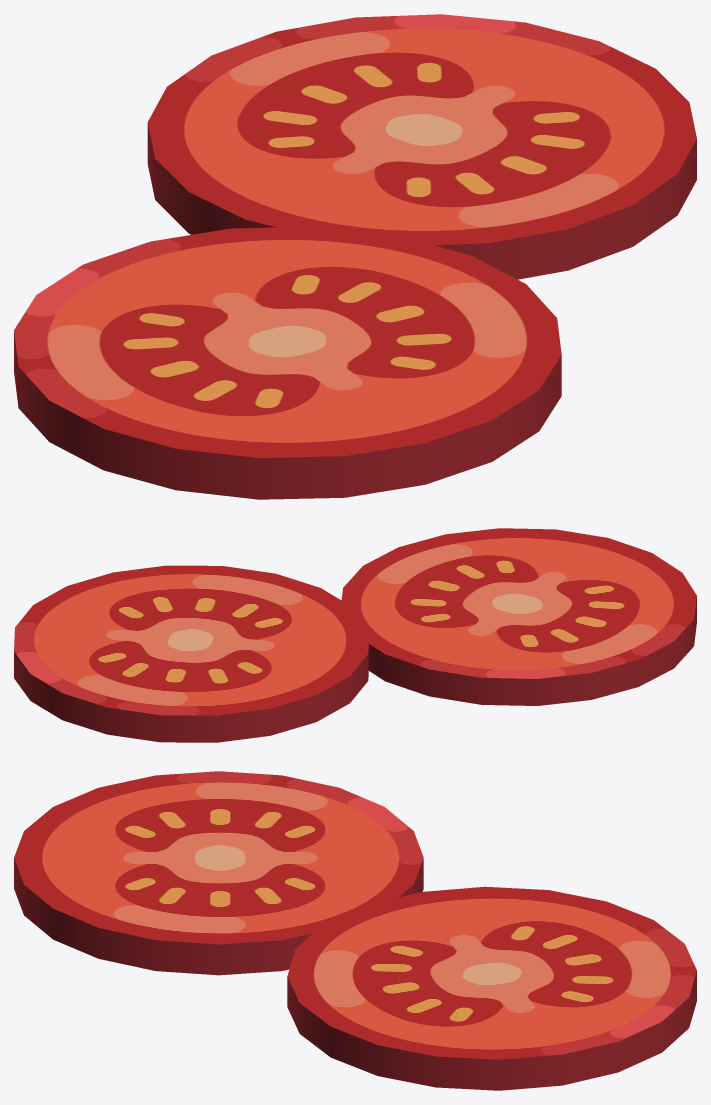
The model's file is Tomato_Slice.glb.
The picture shows the model from 3 angles, top to bottom: view 1: azimuth 30°, elevation 25°; view 2: azimuth 150°, elevation 25°; view 3: azimuth 270°, elevation 25°; orthographic projection. The views are drawn at different scales.
Visible parts, largest first — view 1: Tomato_Slice; view 2: Tomato_Slice; view 3: Tomato_Slice.
Part boxes in pixels (left/top/right/bottom): Tomato_Slice: left=14, top=14, right=696, bottom=499; Tomato_Slice: left=14, top=528, right=696, bottom=742; Tomato_Slice: left=14, top=771, right=696, bottom=1090.
Bounding box in the file's own units: 20 × 1 × 20.
1 material, 1 textured.
